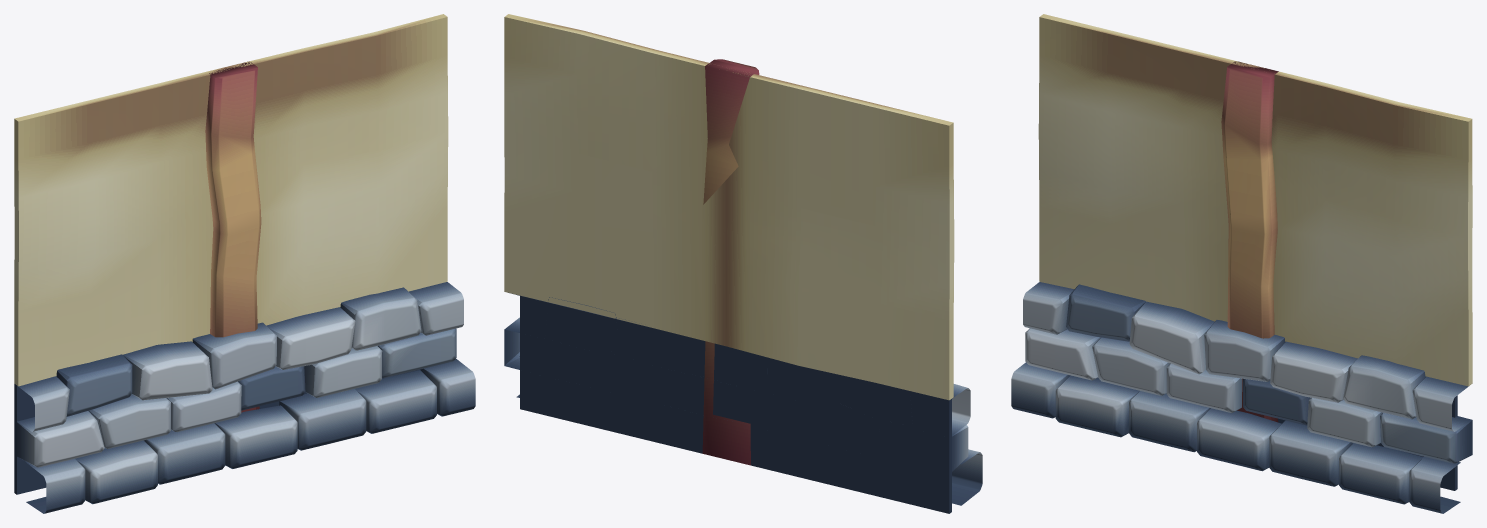
The model's file is Clay_wall_01.fbx.
The picture shows the model from 3 angles, left to right: view 1: azimuth 30°, elevation 25°; view 2: azimuth 150°, elevation 25°; view 3: azimuth 330°, elevation 25°; orthographic projection. The views are drawn at different scales.
Parts seen in each view (by area): view 1: Clay_wall_01; view 2: Clay_wall_01; view 3: Clay_wall_01.
Part boxes in pixels (x1,y1,x2,y2): Clay_wall_01: [14, 14, 475, 513]; Clay_wall_01: [504, 14, 982, 513]; Clay_wall_01: [1011, 14, 1472, 513].
Bounding box in the file's own units: 6 × 5.01 × 0.8867.
